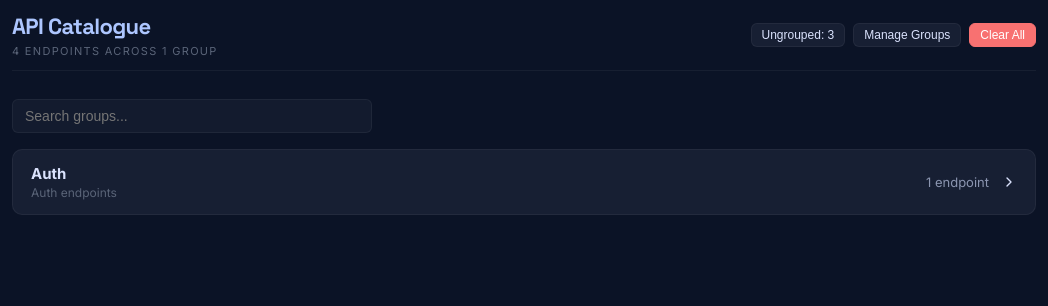
Test case: ApiCatalogue › switches to manage view when Manage Groups clicked
Click the button with test id "manage-groups-btn" at (907, 35), box [853,23,961,47]
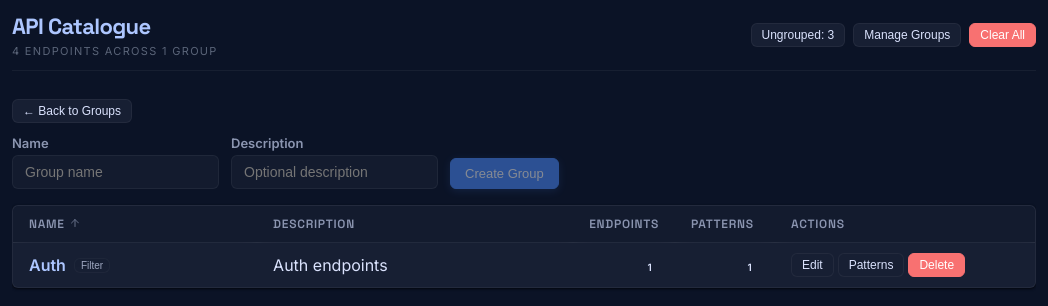
Check: the button "Create Group" is shown, box [450,158,559,189]
